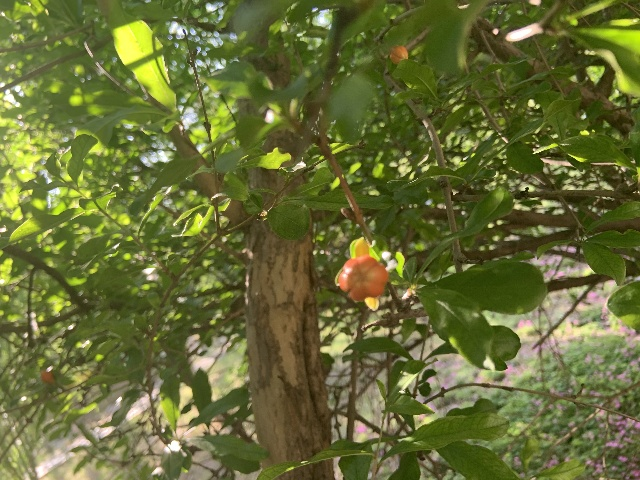bud: (338, 255, 388, 300), (389, 45, 407, 64)
